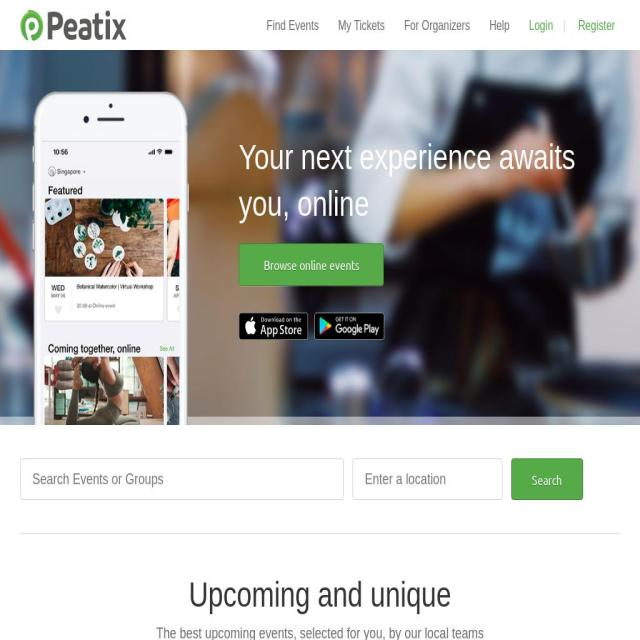button: (238, 243, 384, 287), (20, 0, 126, 42), (511, 458, 583, 500), (399, 10, 475, 41), (314, 312, 385, 345), (239, 312, 309, 345), (262, 10, 324, 41), (333, 10, 390, 41), (573, 10, 621, 41), (524, 10, 558, 41), (484, 10, 515, 41)
field: (20, 458, 344, 500), (352, 458, 502, 500)
heading: (239, 133, 620, 227), (20, 567, 620, 621)
image: (42, 142, 179, 464), (20, 10, 126, 42), (239, 312, 309, 340), (314, 312, 384, 340)
text: (0, 50, 640, 425), (20, 621, 621, 640), (558, 16, 570, 34)
